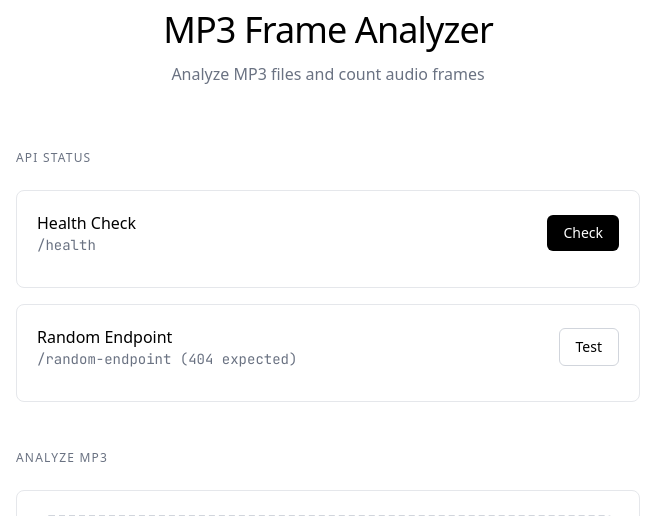
Home Page › Random Endpoint functionality › displays expected 404 error for random endpoint
Click the button "Test": (589, 347) [558,328,619,366]
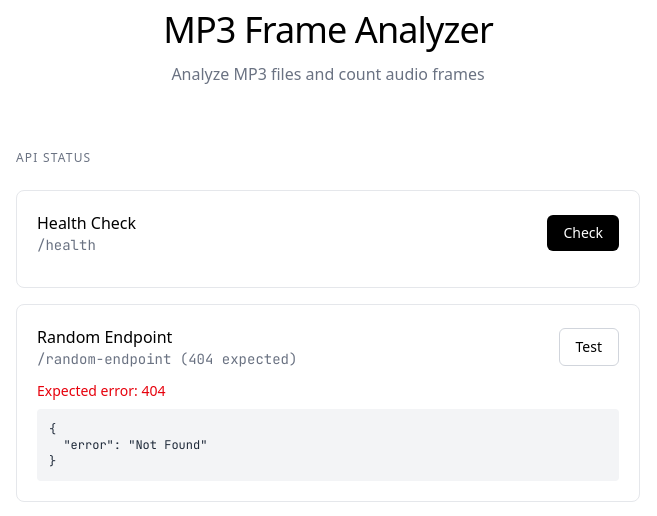
Check: the text "Expected error: 404" is shown, box [37,381,166,400]
